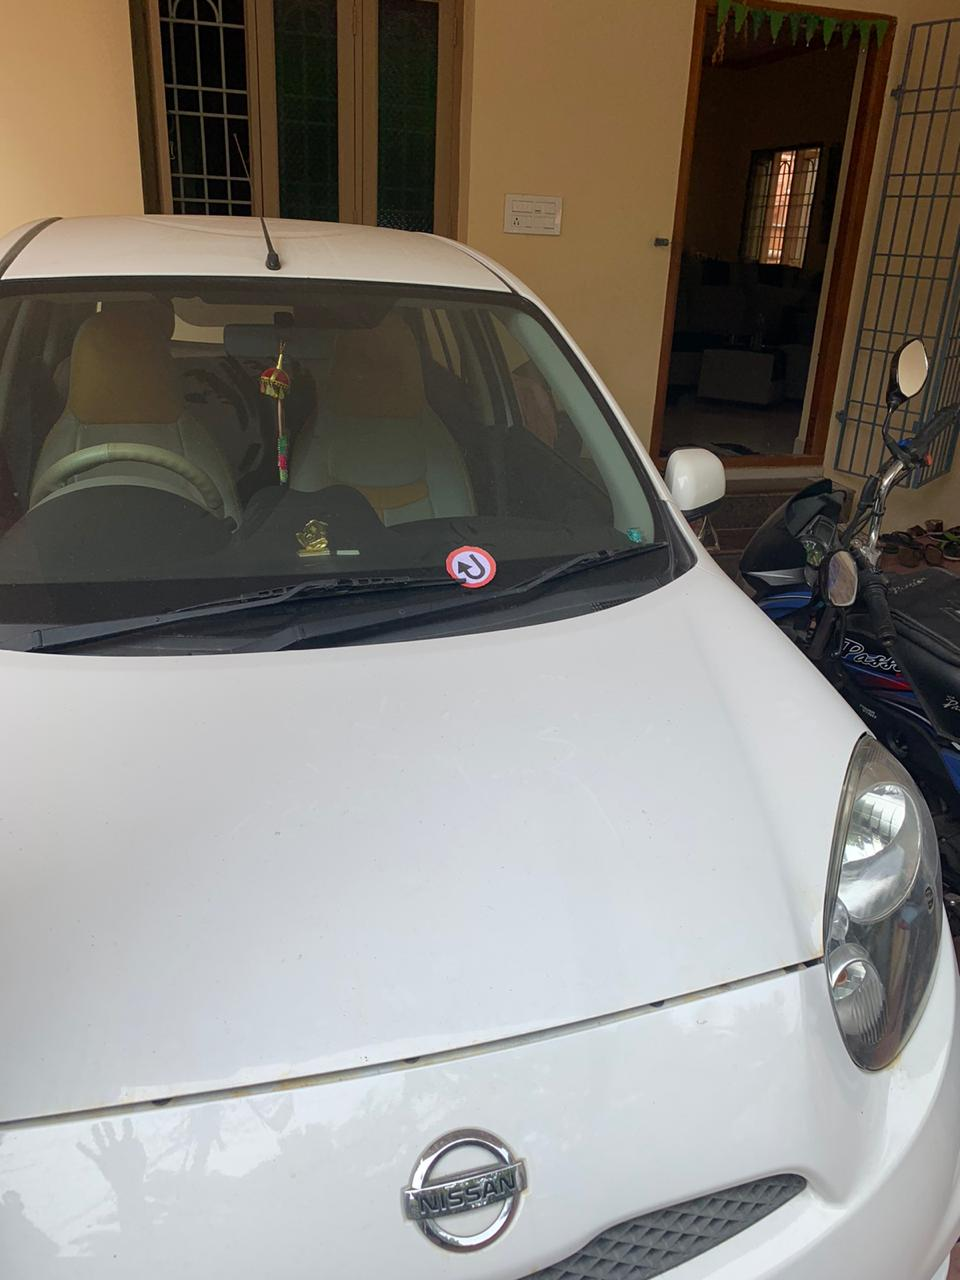U-TURN: (429, 522, 510, 591)
